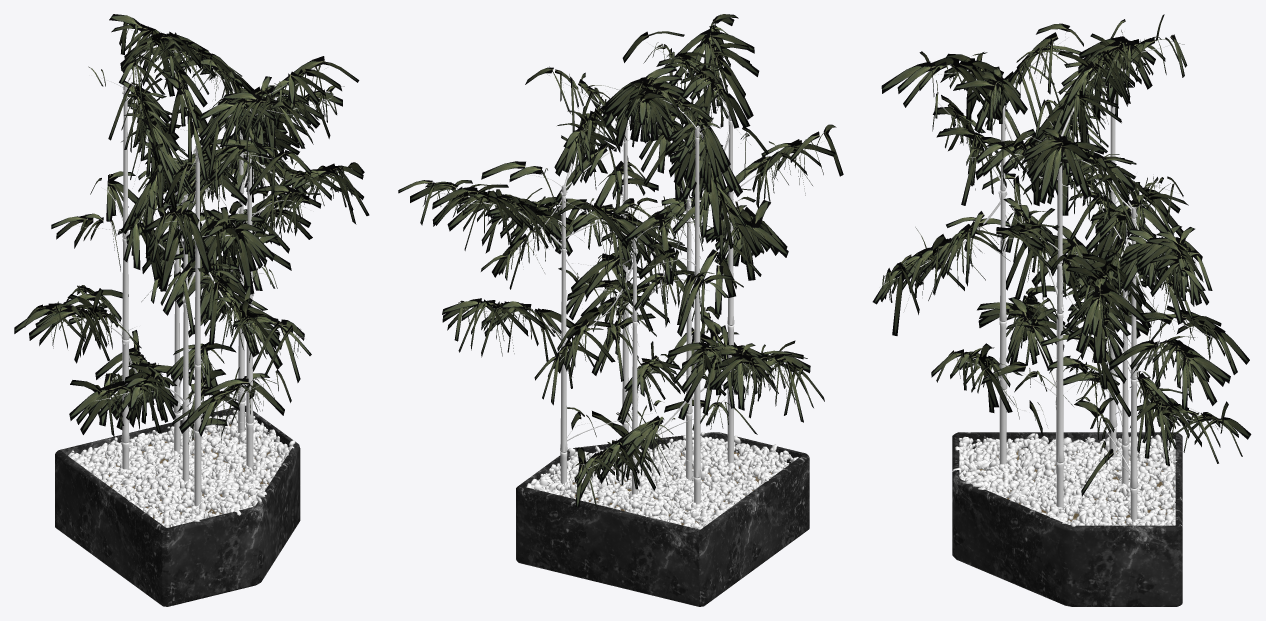
File: corner_plant-transformed.glb
3 views of the same model, side by side, from view 1: azimuth 30°, elevation 25°; view 2: azimuth 150°, elevation 25°; view 3: azimuth 270°, elevation 25° (orthographic). The views are drawn at different scales.
Parts seen in each view (by area): view 1: plant.bamboo, stone.458; view 2: plant.bamboo, stone.458; view 3: plant.bamboo, stone.458.
Boxes of the visible parts, x1,y1,x2,y2 form: plant.bamboo: [14, 14, 369, 606]; stone.458: [68, 410, 295, 527]; plant.bamboo: [398, 14, 843, 606]; stone.458: [526, 432, 798, 529]; plant.bamboo: [872, 14, 1251, 606]; stone.458: [952, 433, 1179, 526].
Size of the model in its own units: 2.3 by 3.1 by 2.03.
4 materials, 3 textured.
